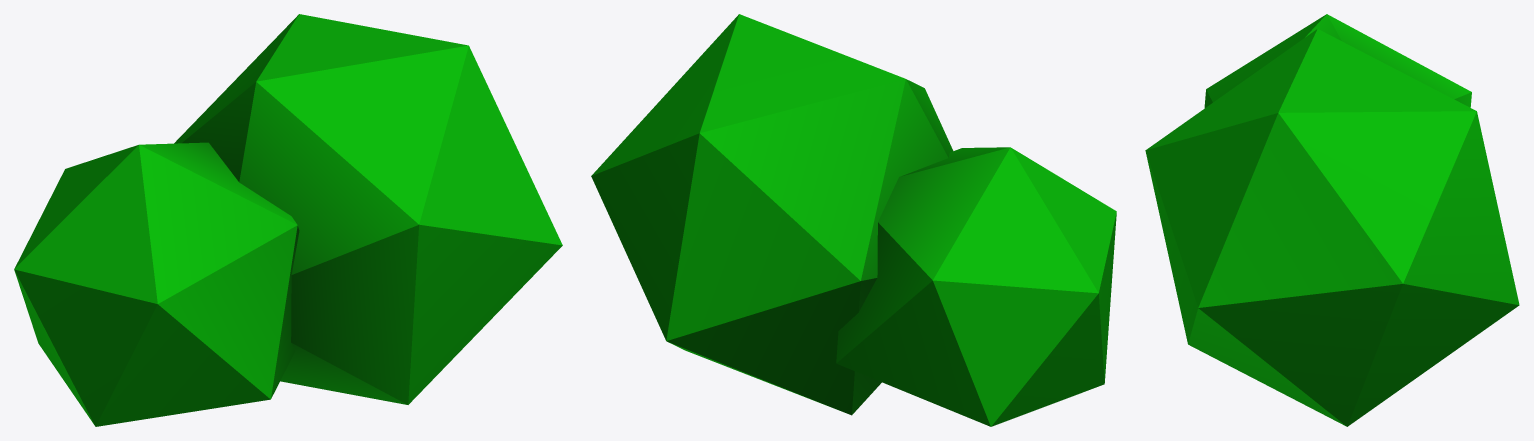
The model's file is tree9.fbx.
3 views of the same model, side by side, from view 1: azimuth 30°, elevation 25°; view 2: azimuth 150°, elevation 25°; view 3: azimuth 270°, elevation 25° (orthographic). The views are drawn at different scales.
Visible parts, largest first — view 1: bush.000; view 2: bush.000; view 3: bush.000.
Part boxes in pixels (<box>): bush.000: <box>14,14,562,426</box>; bush.000: <box>591,14,1116,426</box>; bush.000: <box>1145,14,1519,426</box>.
Bounding box in the file's own units: 506 × 318 × 349.
